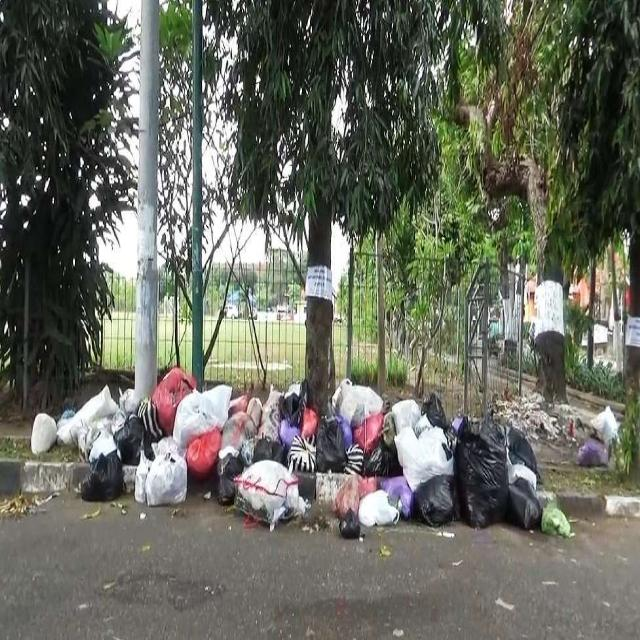trash: (20, 356, 622, 570)
